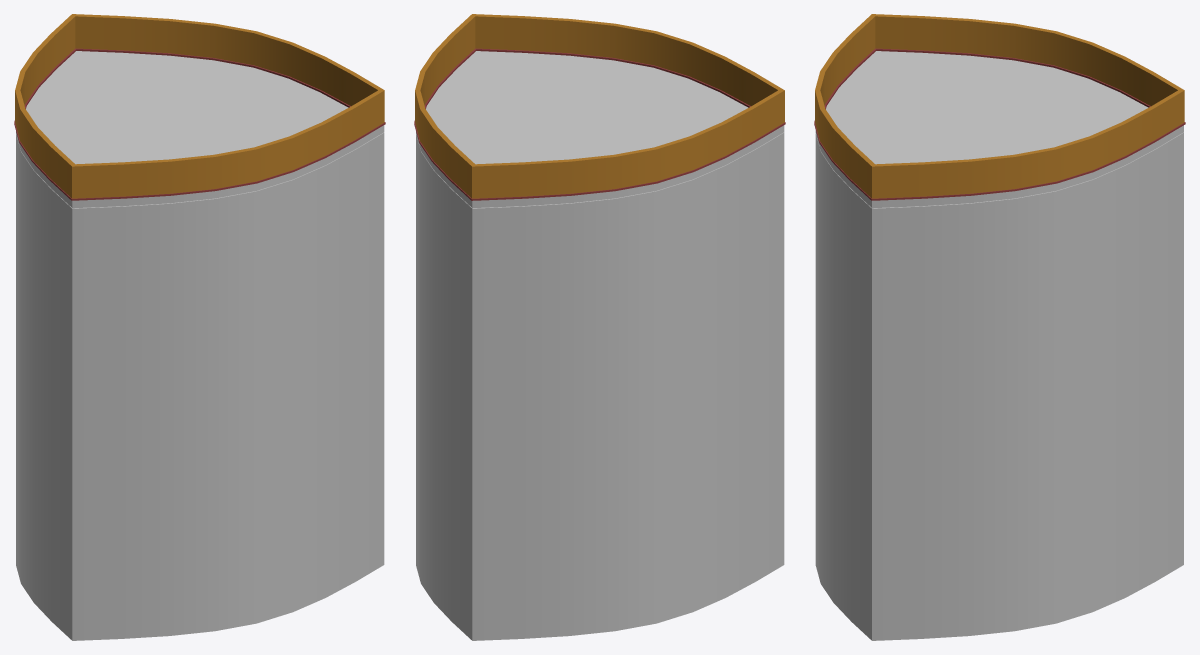
File: weiqiang6.fbx
The picture shows the model from 3 angles, left to right: view 1: azimuth 30°, elevation 25°; view 2: azimuth 150°, elevation 25°; view 3: azimuth 270°, elevation 25°; orthographic projection.
Visible parts, largest first — view 1: InflatedTriangle-Ground001, InflatedTriangle-Ground, InflatedTriangle-Wall, InflatedTriangle-Sill; view 2: InflatedTriangle-Ground001, InflatedTriangle-Ground, InflatedTriangle-Wall, InflatedTriangle-Sill; view 3: InflatedTriangle-Ground001, InflatedTriangle-Ground, InflatedTriangle-Wall, InflatedTriangle-Sill.
Part boxes in pixels (left/top/right/bottom): InflatedTriangle-Ground001: left=16, top=132, right=384, bottom=640; InflatedTriangle-Ground: left=16, top=51, right=384, bottom=208; InflatedTriangle-Wall: left=15, top=14, right=384, bottom=198; InflatedTriangle-Sill: left=14, top=48, right=385, bottom=200; InflatedTriangle-Ground001: left=416, top=132, right=784, bottom=640; InflatedTriangle-Ground: left=416, top=51, right=784, bottom=208; InflatedTriangle-Wall: left=415, top=14, right=784, bottom=198; InflatedTriangle-Sill: left=414, top=48, right=785, bottom=200; InflatedTriangle-Ground001: left=815, top=132, right=1183, bottom=640; InflatedTriangle-Ground: left=815, top=51, right=1183, bottom=208; InflatedTriangle-Wall: left=815, top=14, right=1184, bottom=198; InflatedTriangle-Sill: left=814, top=48, right=1185, bottom=200.
Size of the model in its own units: 3292 by 4752 by 3372.
